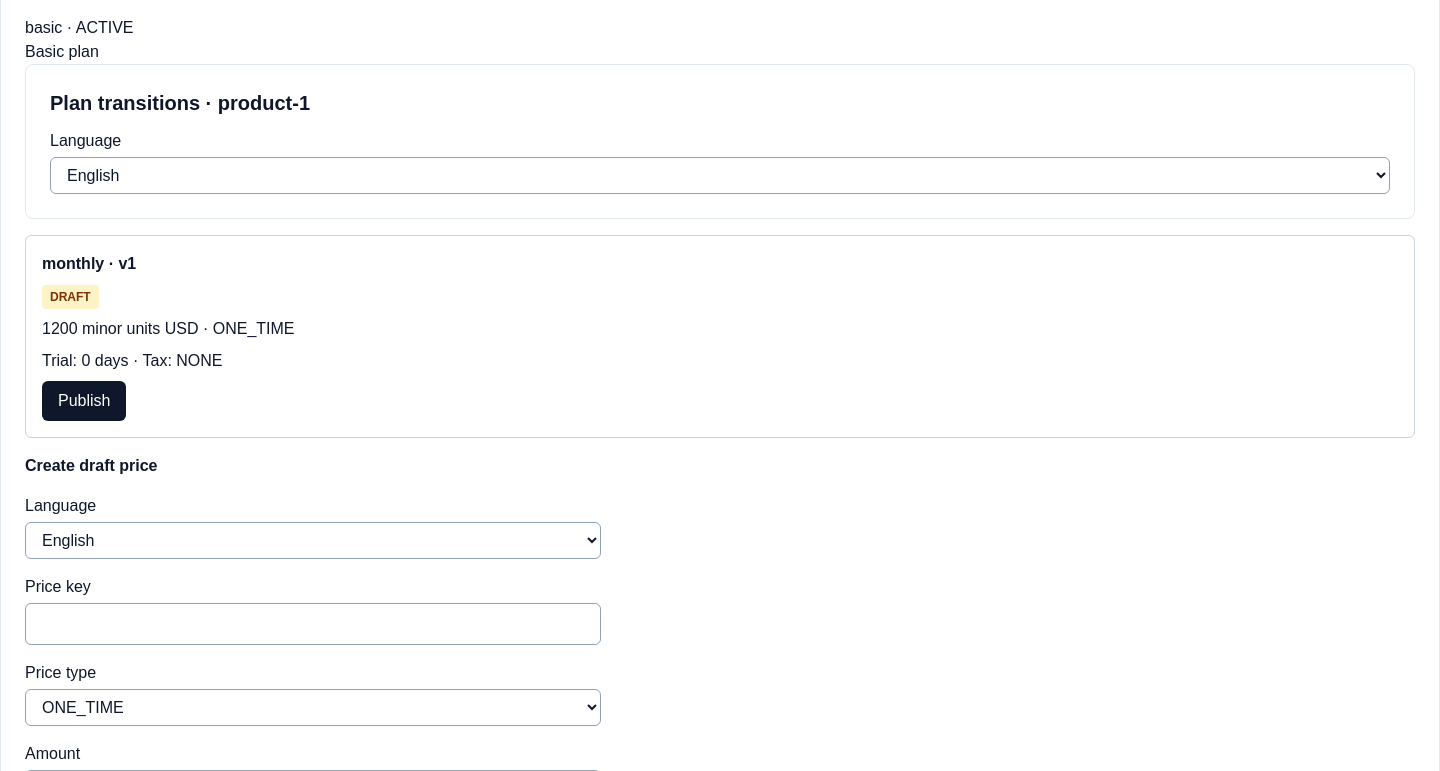
Test case: keeps publication errors visible inside the confirmation so the admin can retry
The width and height of the screenshot is (1440, 771).
(page scrolled)
Click the button "Publish".
click(84, 401)  # box [42, 381, 126, 421]
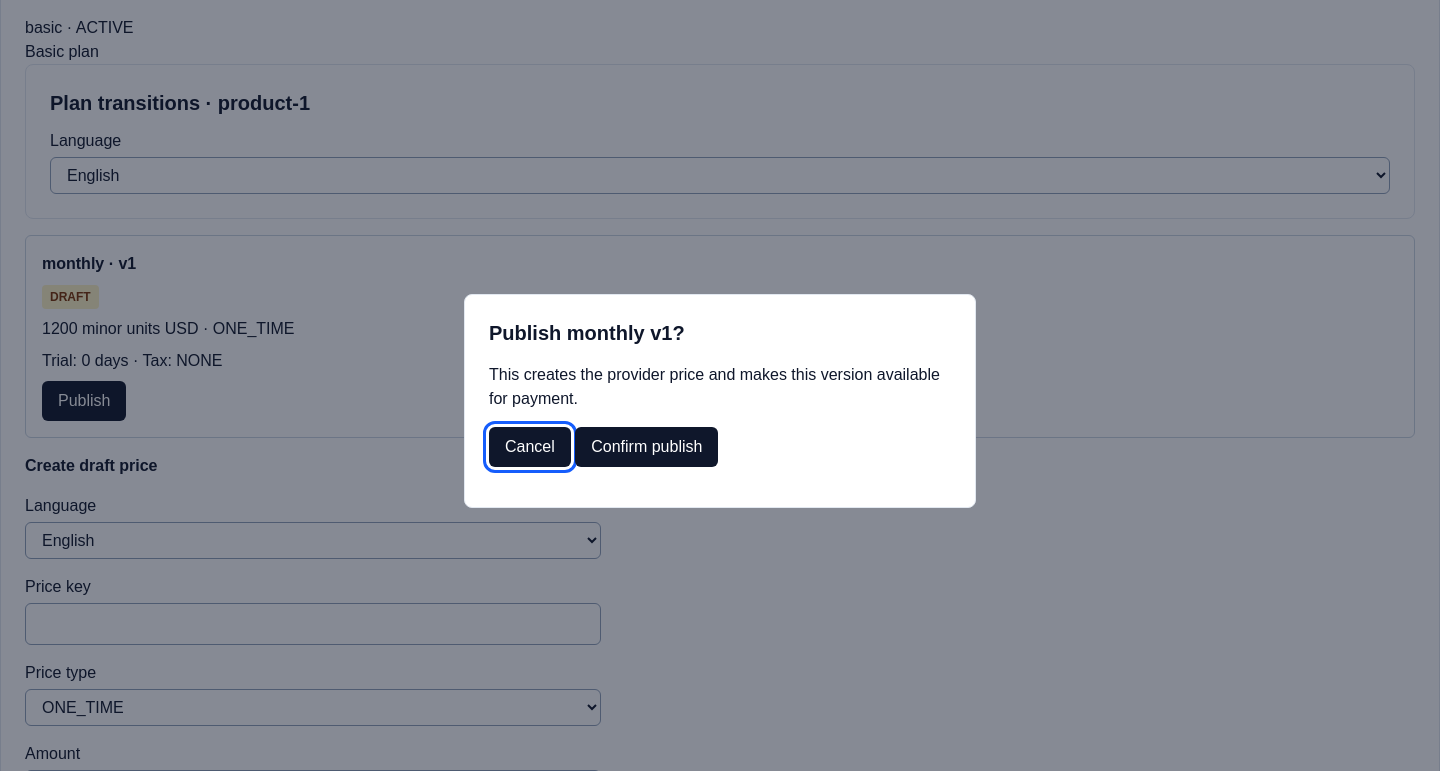
Click the button "Confirm publish".
click(647, 447)  # box [575, 427, 718, 467]
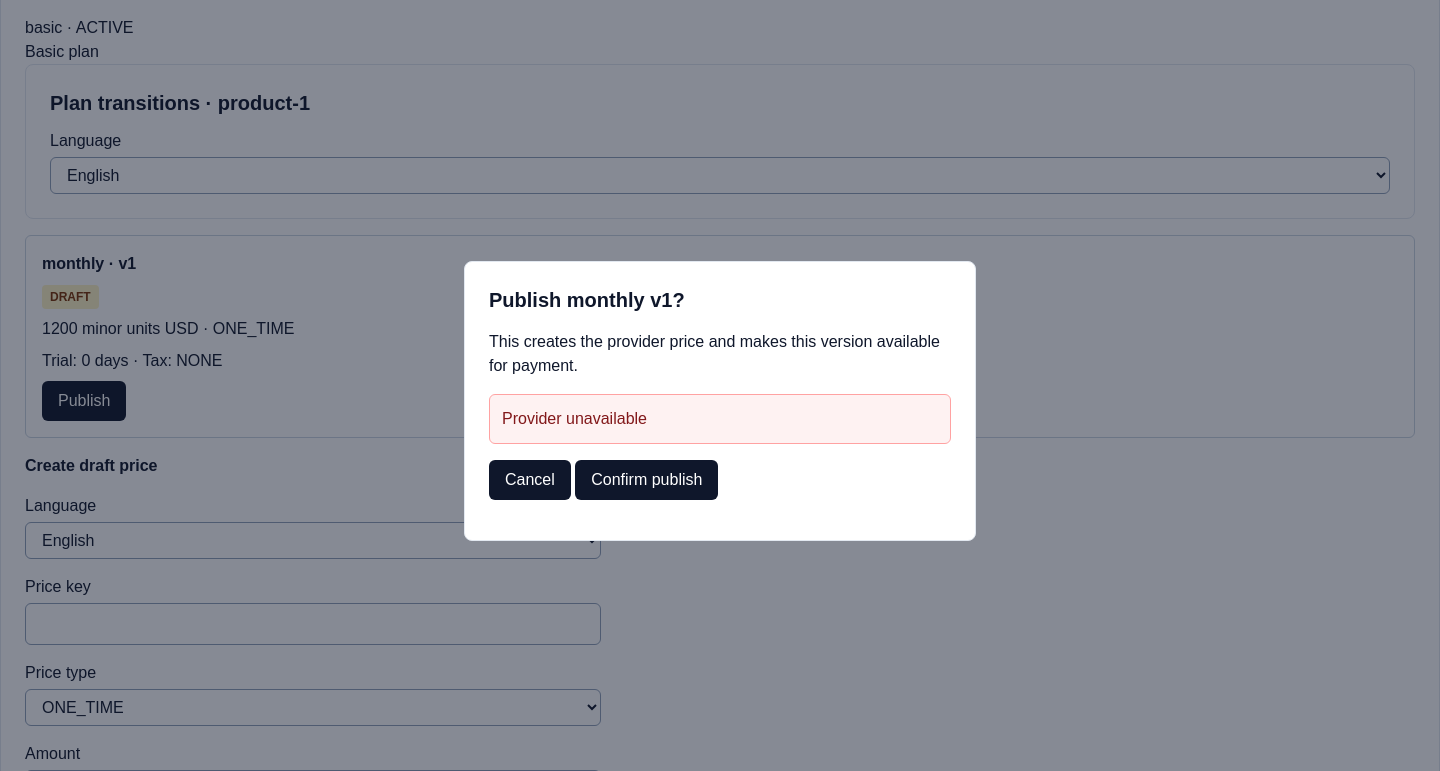
Expected: the text "DRAFT" is shown, [42, 285, 99, 309]
Expected: the message reads "Provider unavailable", [502, 410, 647, 427]
